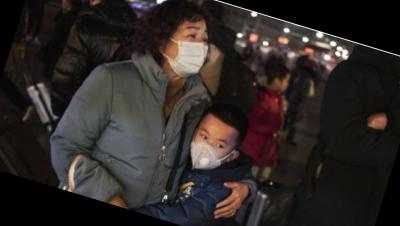with_mask: (160, 17, 215, 82), (183, 123, 237, 179)
without_mask: (276, 74, 292, 93)
